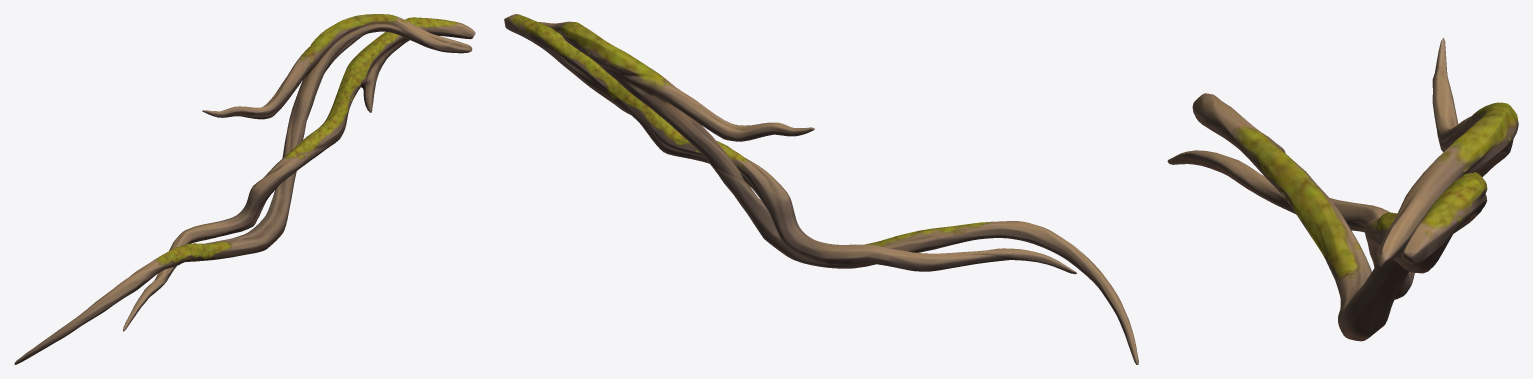
Rendered from sky_root_02c.glb.
3 renders of one model, left to right at view 1: azimuth 30°, elevation 25°; view 2: azimuth 150°, elevation 25°; view 3: azimuth 270°, elevation 25°, orthographic. The views are drawn at different scales.
Visible parts, largest first — view 1: root_02c; view 2: root_02c; view 3: root_02c.
Part boxes in pixels (x1,y1,x2,y2): root_02c: [14, 14, 475, 364]; root_02c: [504, 14, 1138, 364]; root_02c: [1167, 37, 1518, 341].
Bounding box in the file's own units: 13.3 × 5.52 × 4.11.
1 material, 1 textured.
